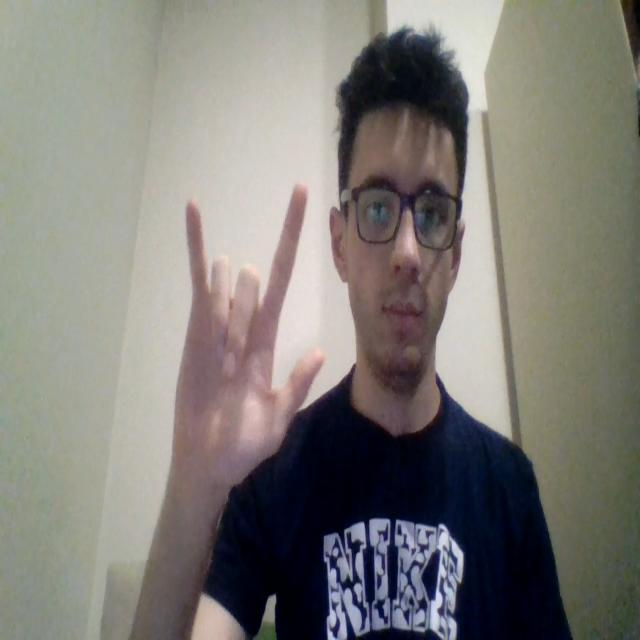iloveyou: (170, 181, 326, 496)
